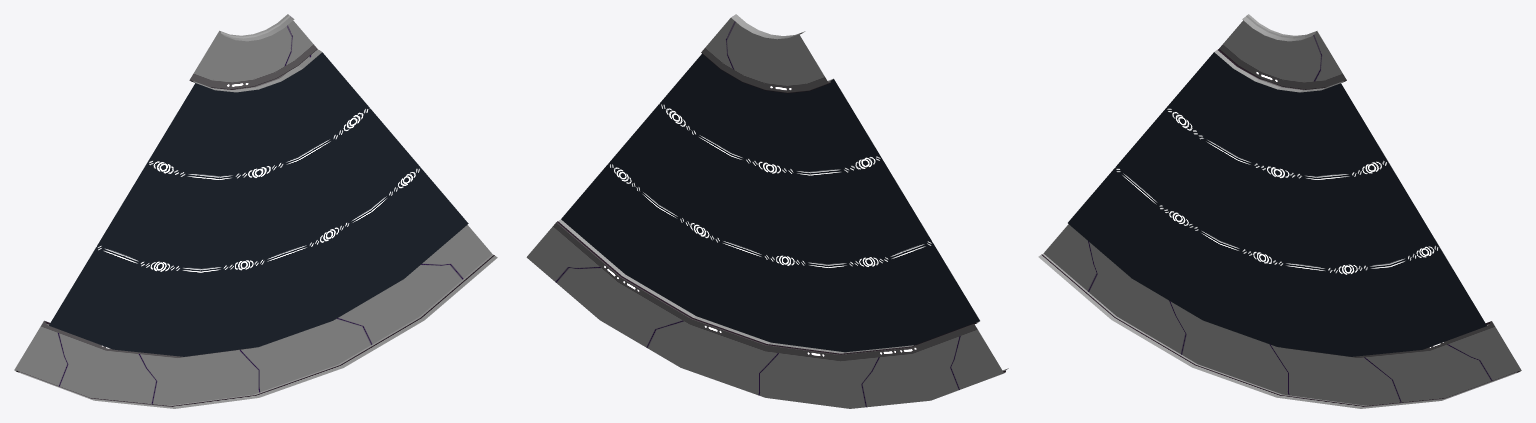
File: SM_M_Road90.fbx
3 views of the same model, side by side, from view 1: azimuth 30°, elevation 25°; view 2: azimuth 150°, elevation 25°; view 3: azimuth 330°, elevation 25° (orthographic).
Visible parts, largest first — view 1: SM_M_Road90; view 2: SM_M_Road90; view 3: SM_M_Road90.
Boxes of the visible parts, <box> form: SM_M_Road90: <box>14,14,497,408</box>; SM_M_Road90: <box>526,14,1008,408</box>; SM_M_Road90: <box>1038,14,1521,408</box>.
Bounding box in the file's own units: 5469 × 4067 × 119.
